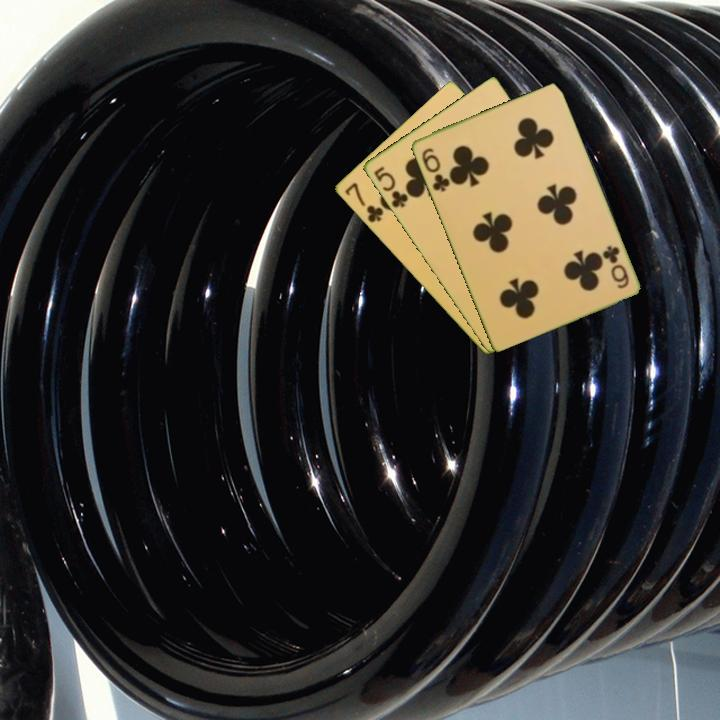5c: (370, 163, 411, 211)
6c: (418, 144, 452, 195), (599, 242, 632, 292)
7c: (341, 179, 386, 225)
